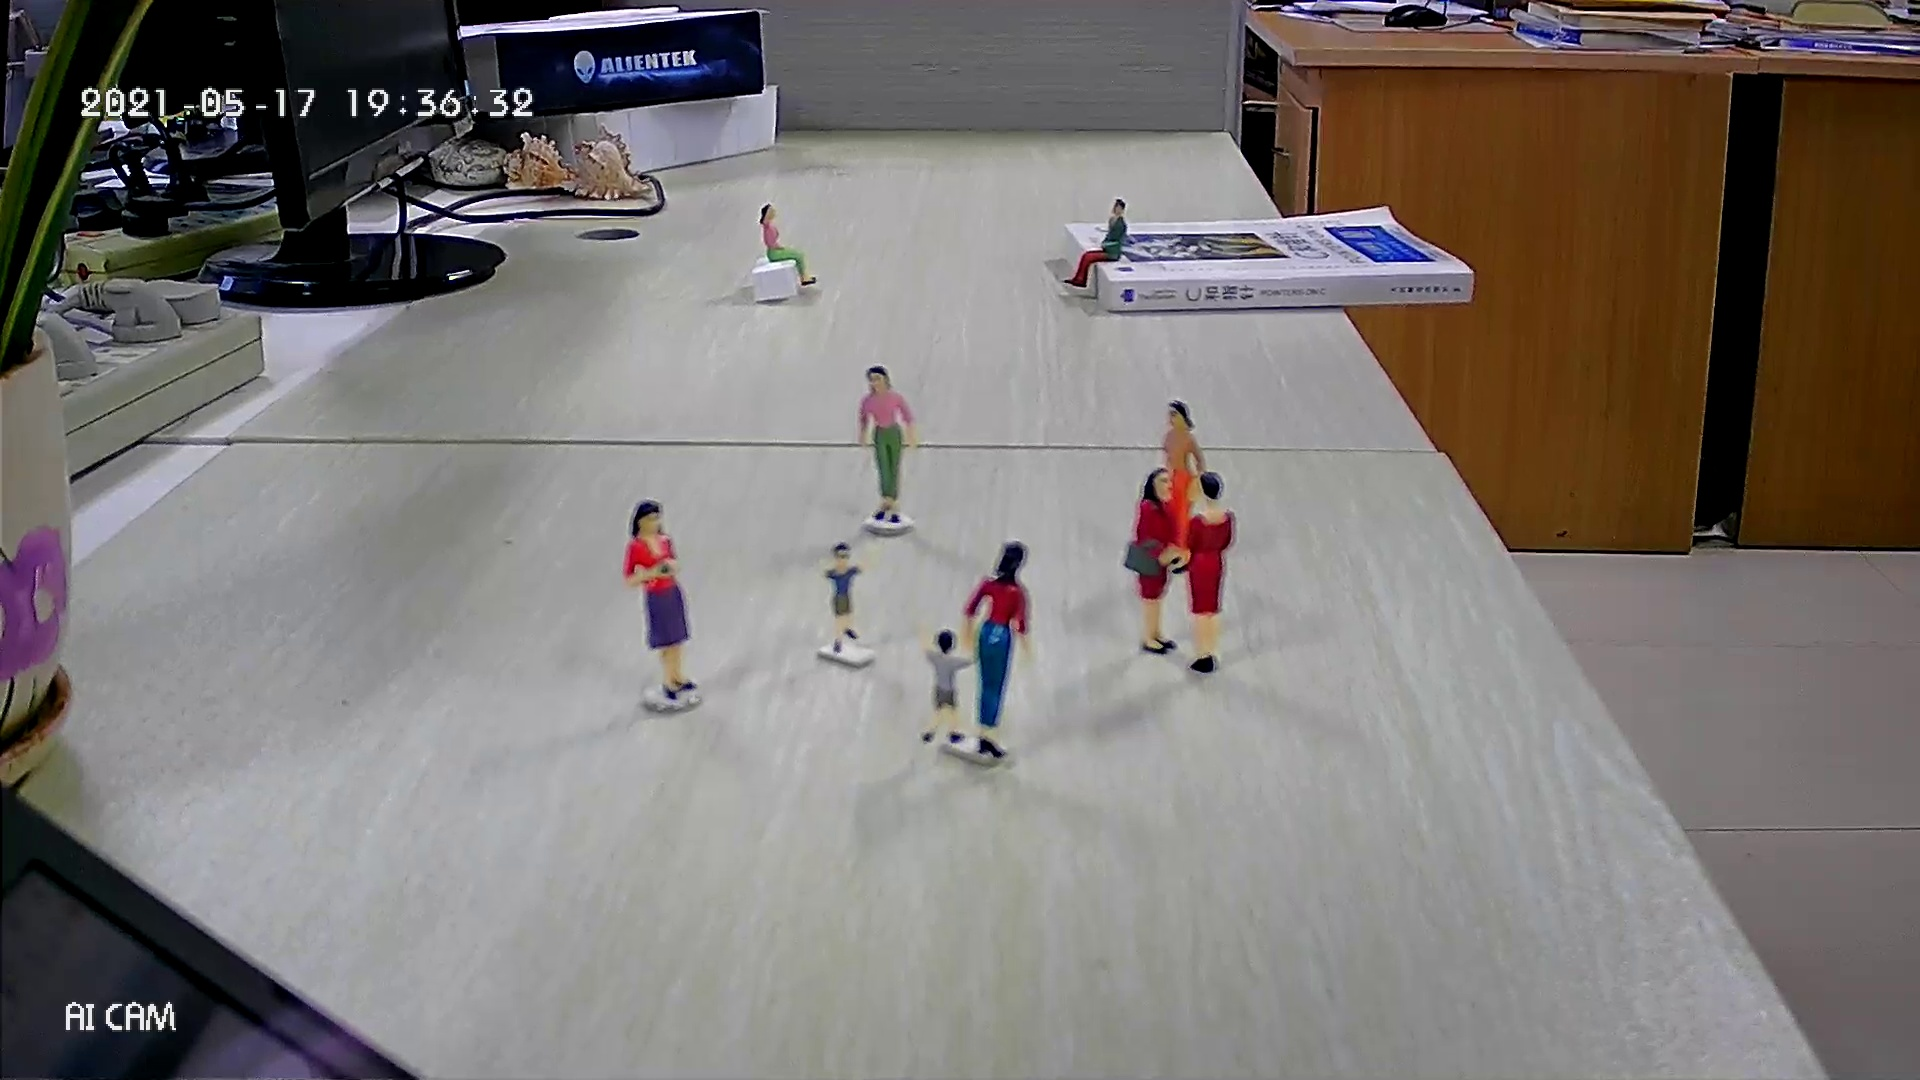person: (959, 538, 1034, 761), (620, 495, 698, 704), (1120, 464, 1183, 655), (1181, 471, 1238, 676), (855, 363, 921, 524), (909, 618, 985, 744), (1160, 398, 1208, 576), (808, 535, 878, 655), (1059, 195, 1130, 290), (754, 200, 820, 290)
